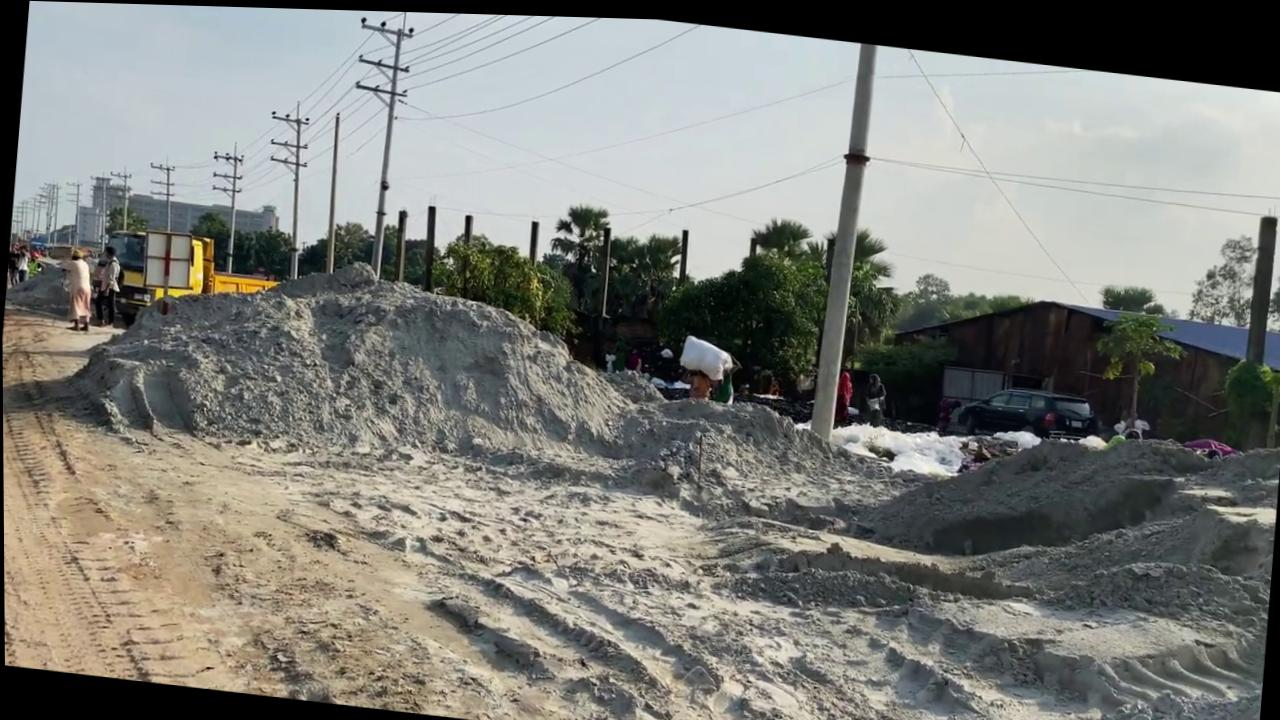Car: (951, 373, 1101, 444)
Garbage: (260, 268, 1280, 720)
Pole: (805, 35, 880, 438), (1243, 204, 1278, 358), (320, 109, 346, 272), (418, 201, 438, 290), (391, 205, 408, 279), (525, 216, 538, 264)
Traffic-sign: (1087, 295, 1189, 426)
Tree: (91, 220, 284, 343)
